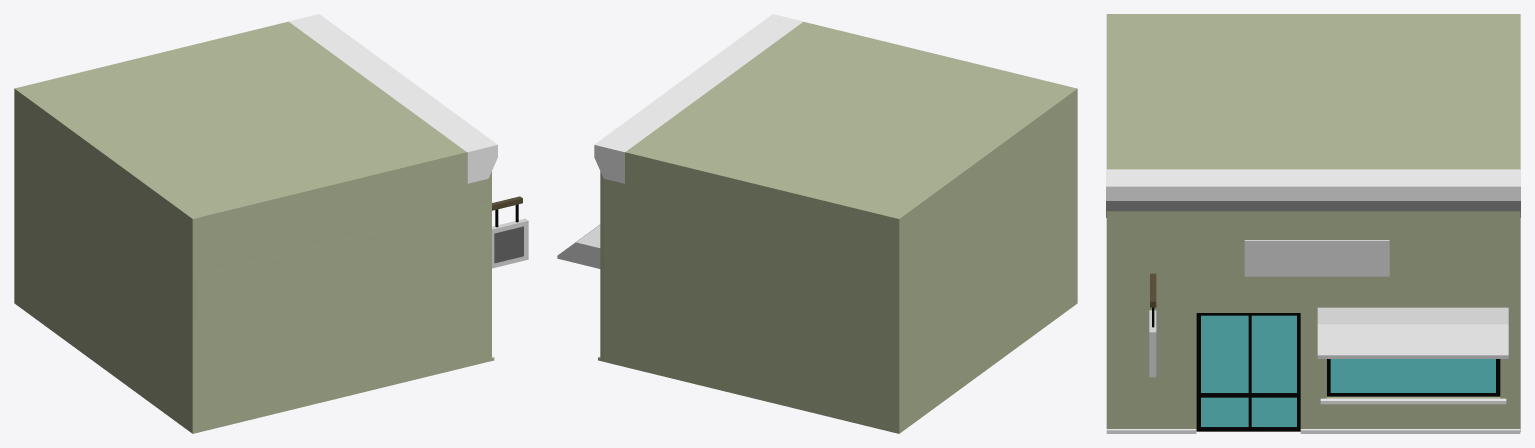
File: Small Shop.fbx
3 views of the same model, side by side, from view 1: azimuth 30°, elevation 25°; view 2: azimuth 150°, elevation 25°; view 3: azimuth 270°, elevation 25° (orthographic). The views are drawn at different scales.
Visible parts, largest first — view 1: Cube, Cube.023; view 2: Cube, Cube.002; view 3: Cube, Cube.002, Cube.001, Cube.023.
Part boxes in pixels (left/top/right/bottom): Cube: left=14, top=14, right=497, bottom=433; Cube.023: left=492, top=196, right=528, bottom=268; Cube: left=594, top=14, right=1077, bottom=433; Cube.002: left=557, top=224, right=600, bottom=268; Cube: left=1106, top=14, right=1520, bottom=433; Cube.002: left=1317, top=307, right=1508, bottom=358; Cube.001: left=1244, top=240, right=1389, bottom=276; Cube.023: left=1149, top=273, right=1156, bottom=377.
Bounding box in the file's own units: 2418 × 1402 × 2114.
